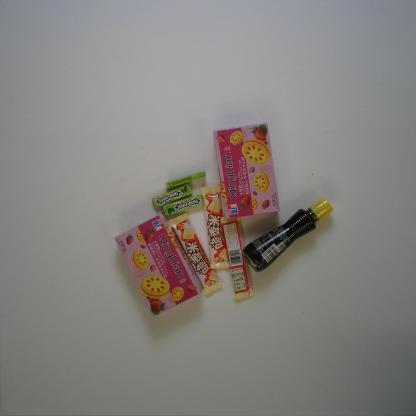Chocolate: (168, 212, 224, 298), (219, 212, 255, 302), (200, 184, 233, 270)
Dessert: (114, 211, 204, 318), (211, 121, 283, 219)
Gum: (151, 182, 193, 210), (162, 193, 204, 217), (165, 170, 206, 190)
Seasoner: (240, 196, 334, 274)
